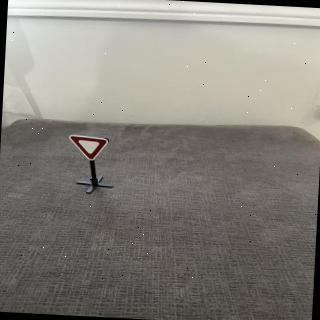sign_yield: (68, 135, 112, 164)
